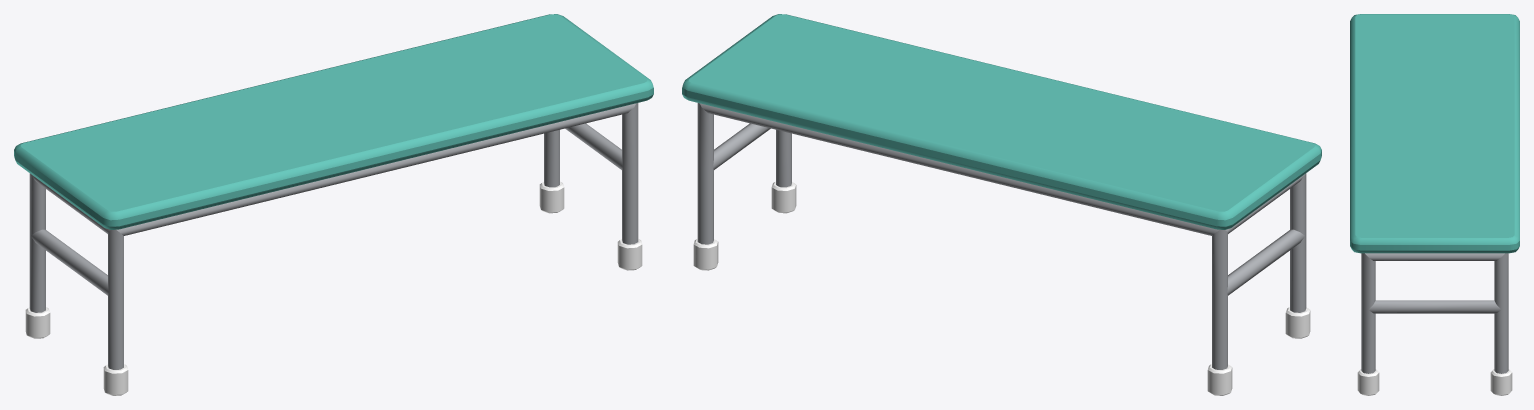
The model's file is Medical_bench.fbx.
3 views of the same model, side by side, from view 1: azimuth 30°, elevation 25°; view 2: azimuth 150°, elevation 25°; view 3: azimuth 270°, elevation 25° (orthographic). The views are drawn at different scales.
Parts seen in each view (by area): view 1: Medical_bench; view 2: Medical_bench; view 3: Medical_bench.
Part boxes in pixels (x1,y1,x2,y2): Medical_bench: (14,14,653,395); Medical_bench: (682,14,1321,395); Medical_bench: (1350,14,1519,395).
Bounding box in the file's own units: 1.52 × 0.496 × 0.4785.
